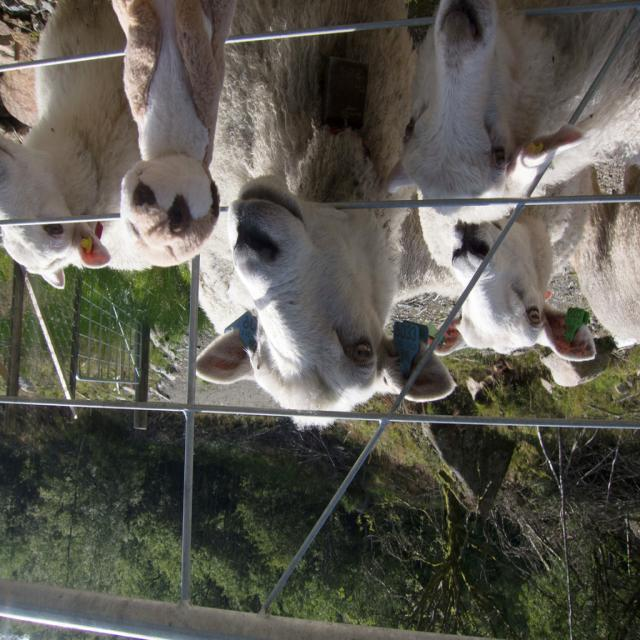Goat: (191, 2, 418, 338), (191, 176, 460, 432), (386, 2, 639, 271), (0, 2, 144, 291), (110, 2, 237, 272), (432, 164, 600, 364), (570, 162, 640, 350)
